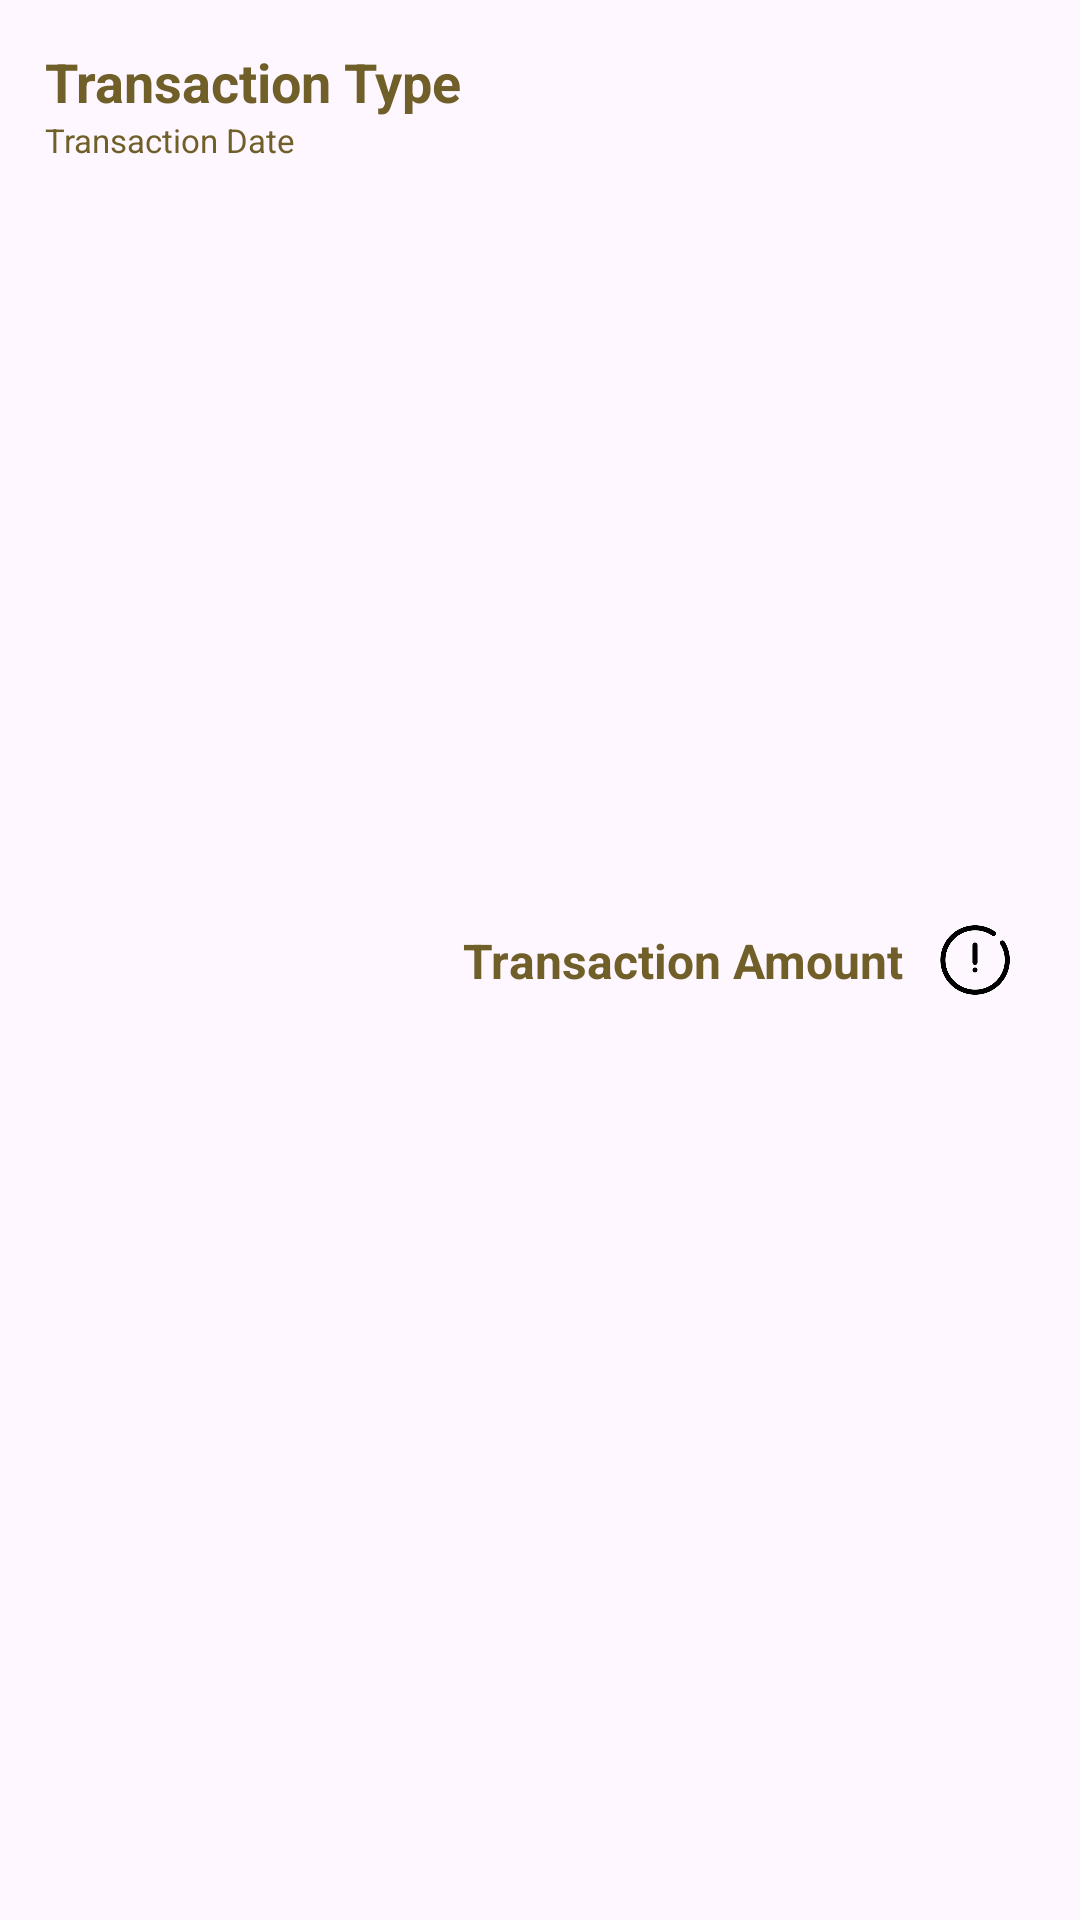

Icons on this 1080 x 1920 Android screen, each with its box as box(x1, y1, x2, y2):
info: box(940, 925, 1010, 995)
